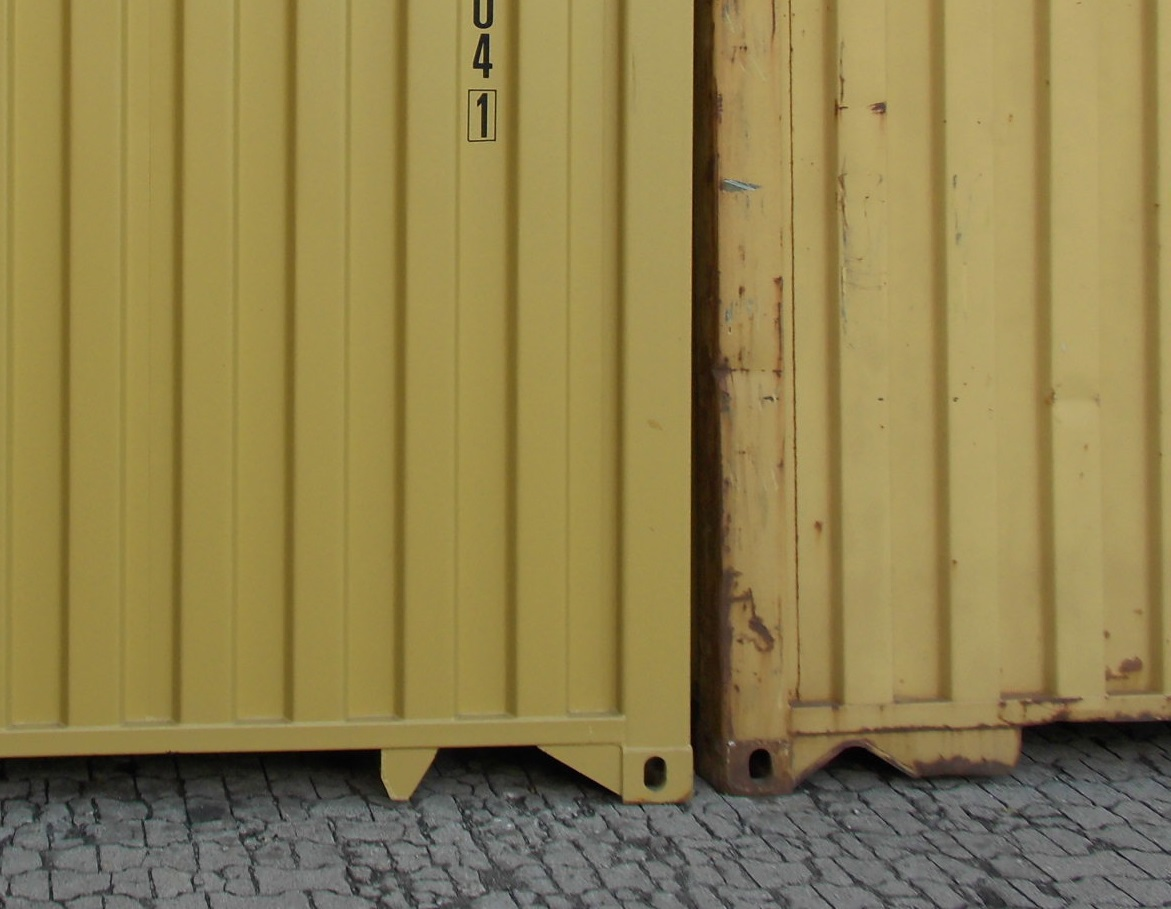container_no_door: (3, 1, 701, 808), (715, 1, 1171, 790)
